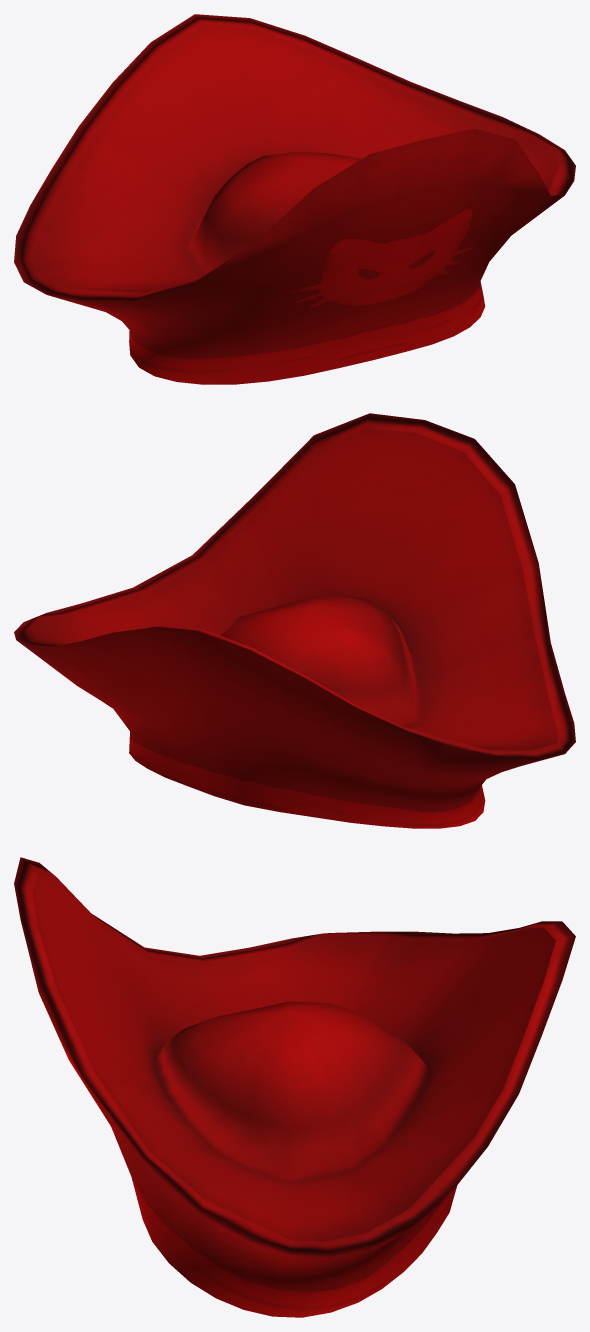
File: M_Pirate_HatB.glb
3 views of the same model, one above another, from view 1: azimuth 30°, elevation 25°; view 2: azimuth 150°, elevation 25°; view 3: azimuth 270°, elevation 25° (orthographic). The views are drawn at different scales.
Parts seen in each view (by area): view 1: SM_Pirate_Hat; view 2: SM_Pirate_Hat; view 3: SM_Pirate_Hat.
Boxes of the visible parts, x1,y1,x2,y2 form: SM_Pirate_Hat: (14,14,575,384); SM_Pirate_Hat: (14,413,575,828); SM_Pirate_Hat: (14,857,575,1317).
Bounding box in the file's own units: 1.07 × 0.5186 × 0.7882.
Materials: 1 (1 with a texture image).
